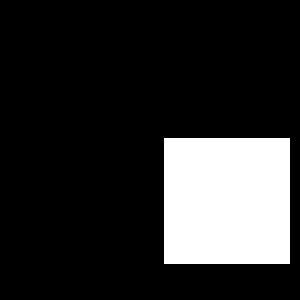circle: (164, 138, 290, 264)
